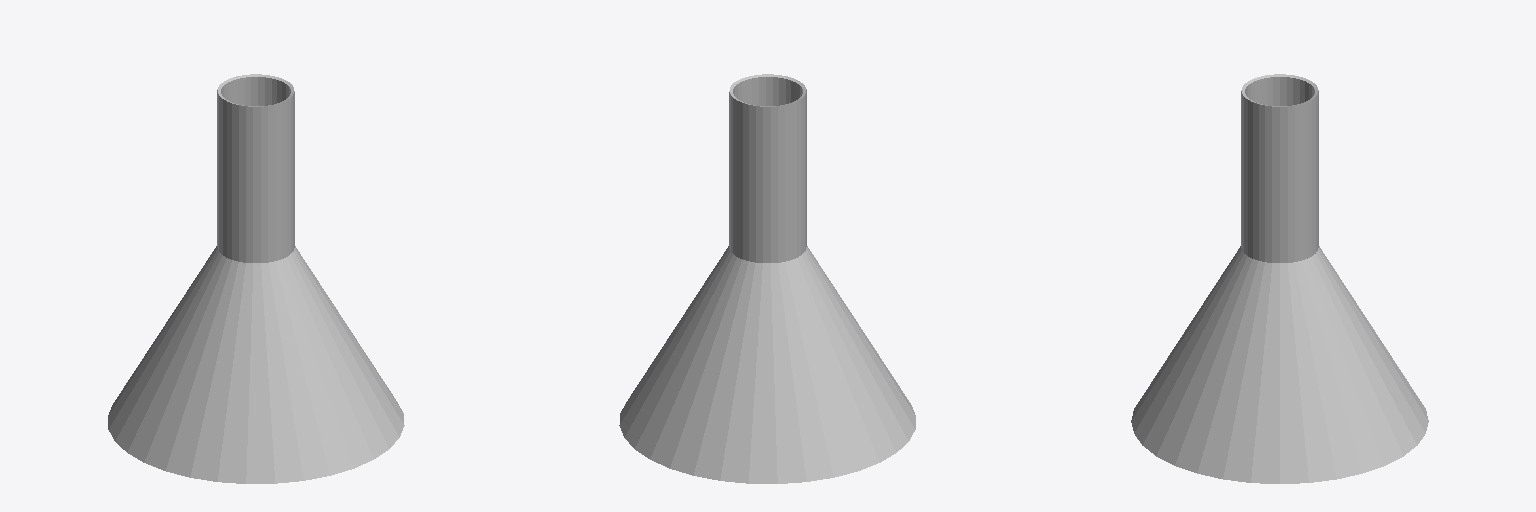
Rendered from bottle.obj.
3 views of the same model, side by side, from view 1: azimuth 30°, elevation 25°; view 2: azimuth 150°, elevation 25°; view 3: azimuth 270°, elevation 25° (orthographic).
Visible parts, largest first — view 1: Cylinder; view 2: Cylinder; view 3: Cylinder.
Part boxes in pixels (bbox=[...]): Cylinder: bbox=[108, 74, 404, 483]; Cylinder: bbox=[619, 74, 915, 483]; Cylinder: bbox=[1131, 74, 1428, 483].
Bounding box in the file's own units: 7.7 × 9.45 × 7.7.